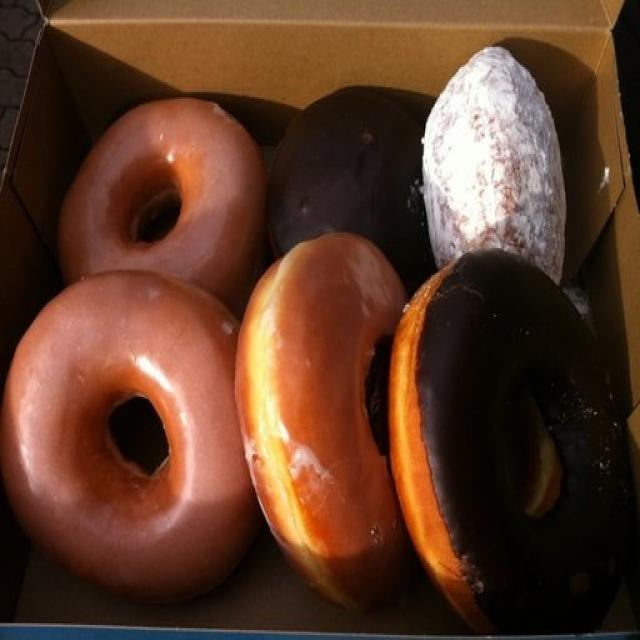Donuts: (8, 45, 623, 640)
